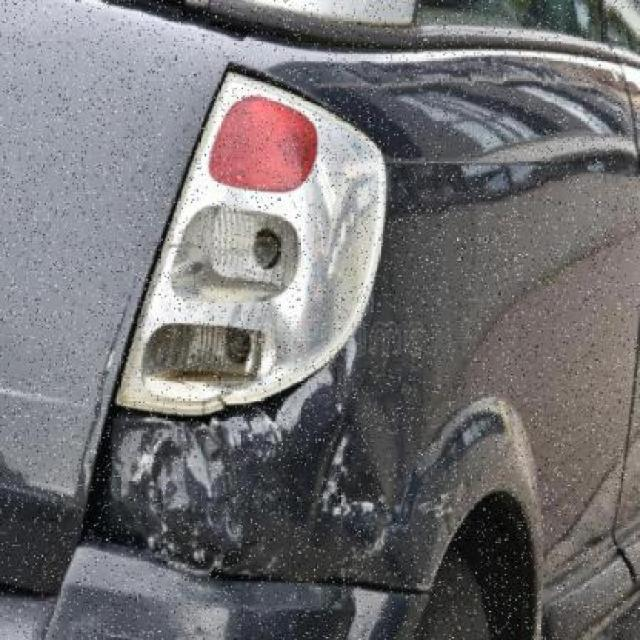Taillight-Damage: (103, 36, 397, 430)
quaterpanel-dent: (101, 408, 623, 582)
